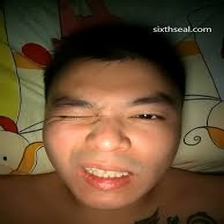no_mask: (49, 70, 174, 204)
